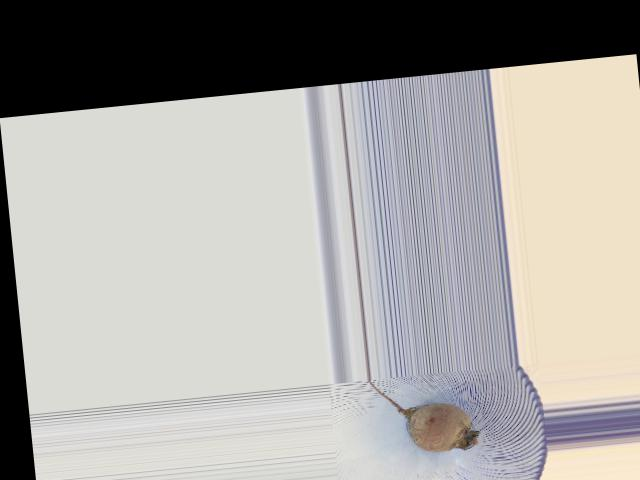beet: (368, 368, 481, 458)
